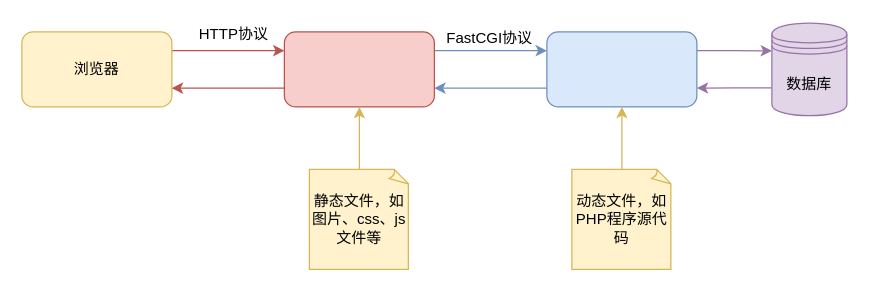
Image size: 869x291. Some labels were removed from this diagram. The centre of each missing label's shape, as x and y in pixels:
"PHP-FPM" belongs at [621,69].
"Web服务器" belongs at [358,69].
